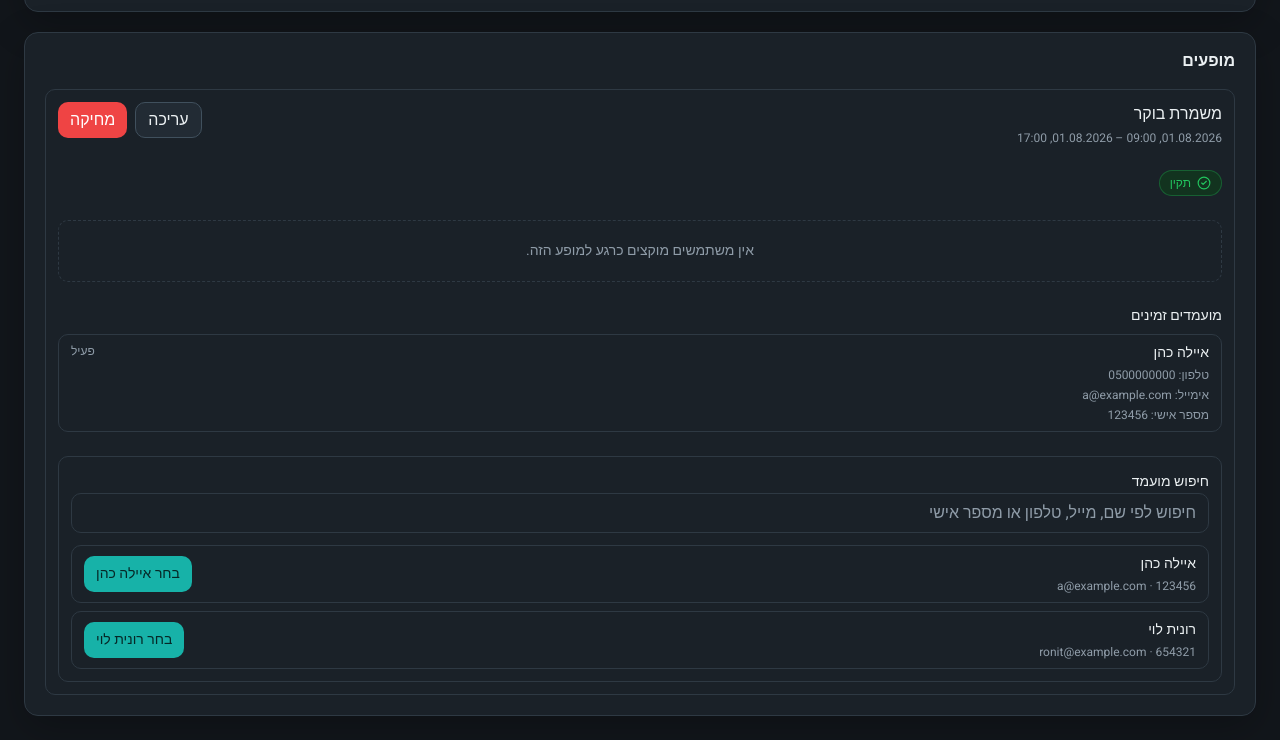
ActivityTaskInstancesPage › requests candidate evaluation only after a user is selected and renders the returned warning state
(page scrolled)
expect the text "אזהרה" is not shown: met
In the field labelled "חיפוש מועמד": (640, 513) x1=71 y1=493 x2=1209 y2=533, type "רונית"
(page scrolled)
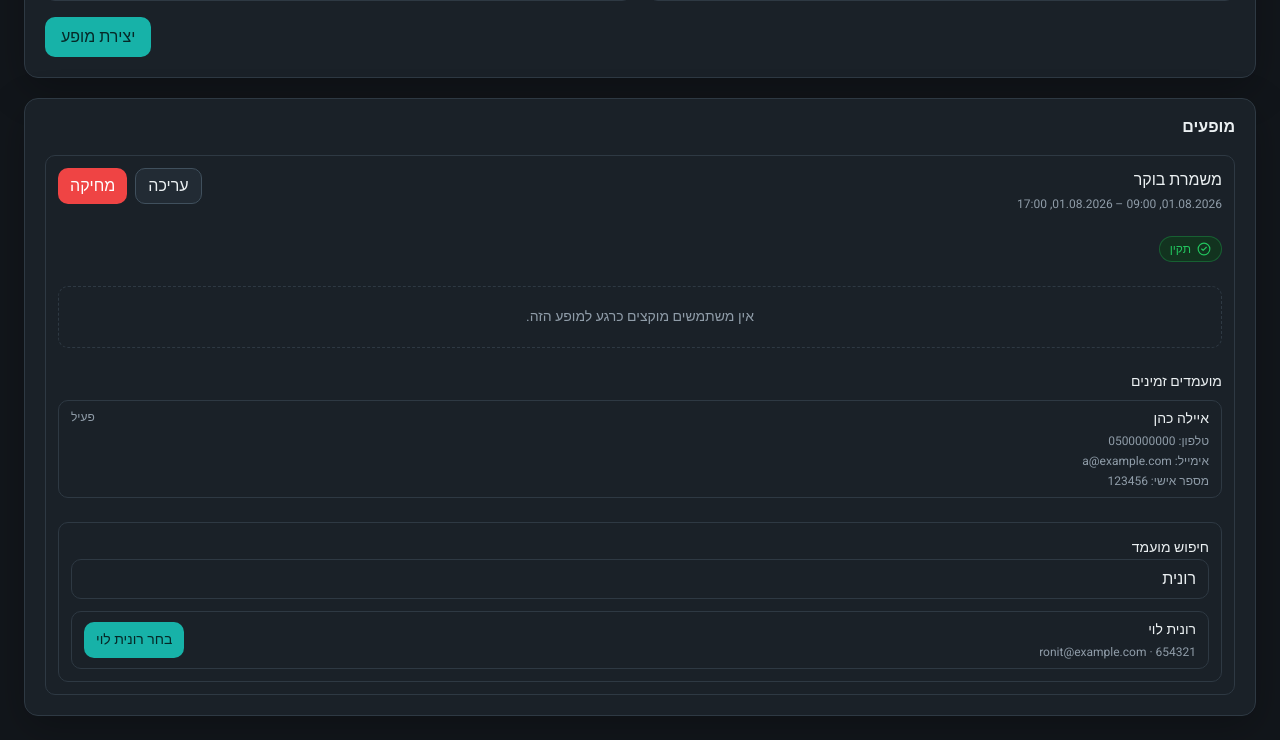
Click the button "בחר רונית לוי": (134, 640) x1=84 y1=622 x2=184 y2=658
(page scrolled)
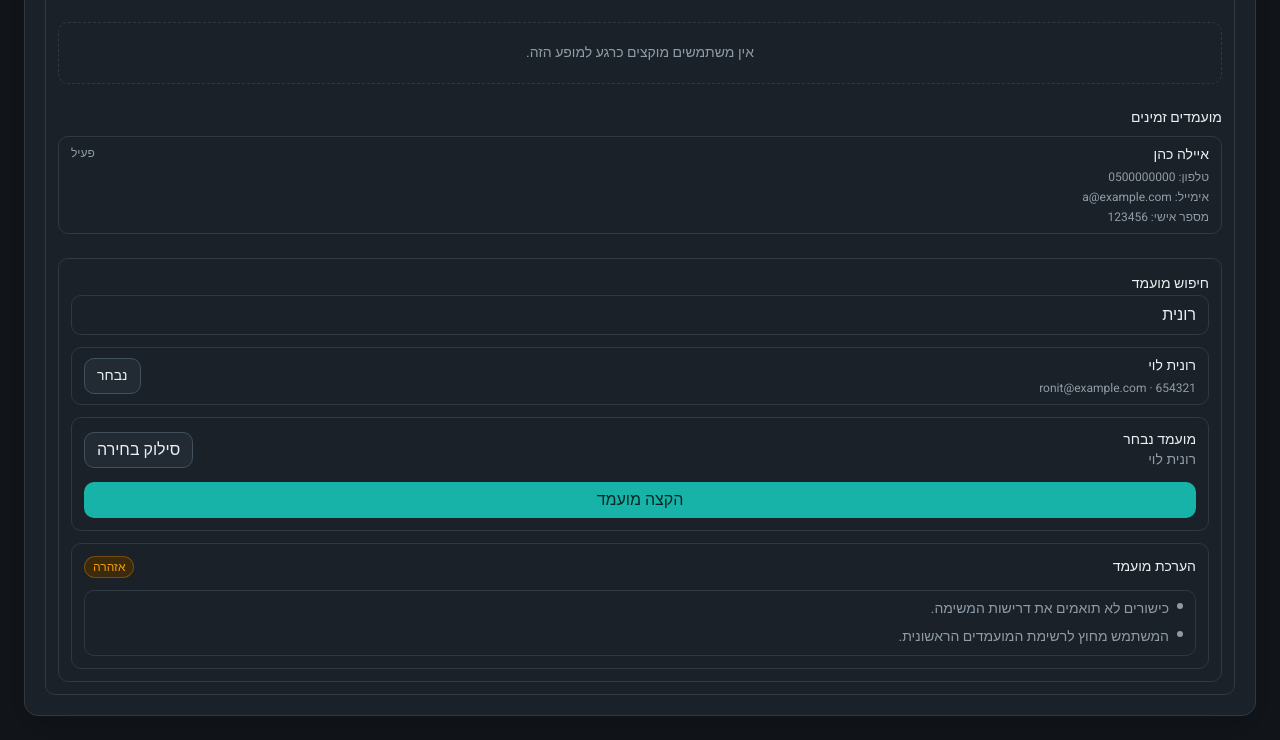
expect the text "אזהרה" is shown: met, box x1=84 y1=556 x2=134 y2=578
expect the text "כישורים לא תואמים את דרישות המשימה." is shown: met, box x1=931 y1=599 x2=1169 y2=619
expect the text "המשתמש מחוץ לרשימת המועמדים הראשונית." is shown: met, box x1=898 y1=627 x2=1169 y2=647
